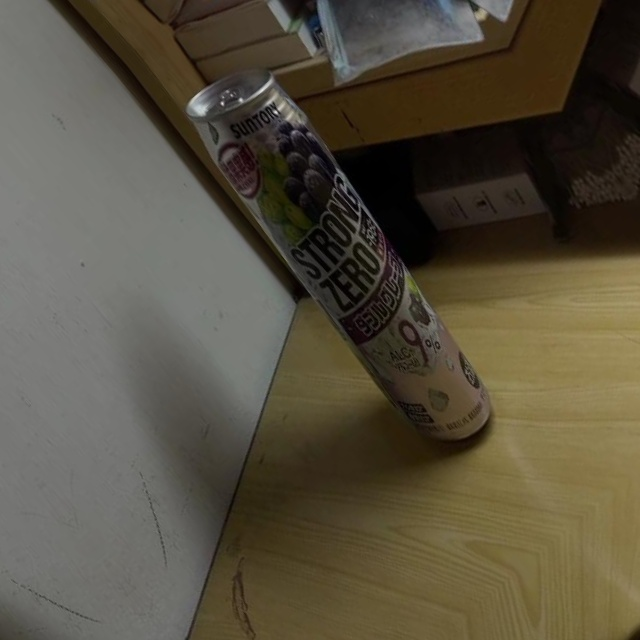Liquor: (158, 49, 533, 463)
